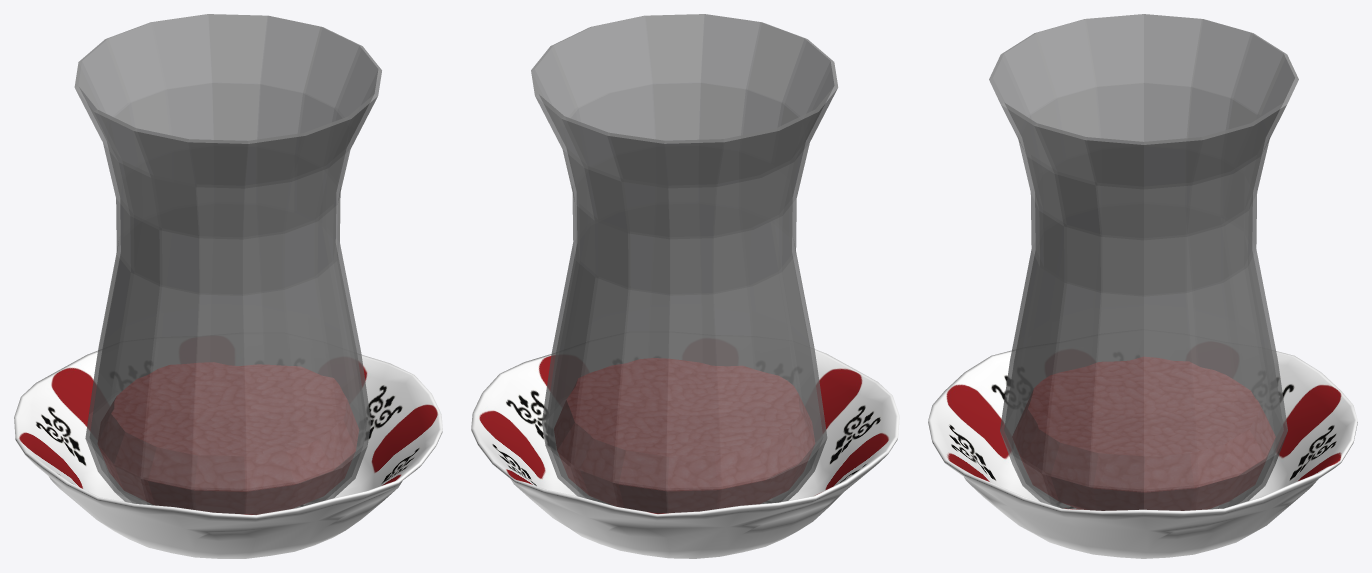
File: Oralets(strawberryGranule).fbx
The picture shows the model from 3 angles, left to right: view 1: azimuth 30°, elevation 25°; view 2: azimuth 150°, elevation 25°; view 3: azimuth 270°, elevation 25°; orthographic projection.
Parts seen in each view (by area): view 1: TeaGlass, StrawberryGranule, TeaGlassCoater; view 2: TeaGlass, StrawberryGranule, TeaGlassCoater; view 3: TeaGlass, StrawberryGranule, TeaGlassCoater.
Part boxes in pixels (x1,y1,x2,y2): TeaGlass: [74, 14, 381, 514]; StrawberryGranule: [98, 362, 358, 514]; TeaGlassCoater: [14, 349, 442, 558]; TeaGlass: [531, 14, 838, 513]; StrawberryGranule: [554, 358, 814, 513]; TeaGlassCoater: [471, 348, 899, 558]; TeaGlass: [989, 14, 1298, 510]; StrawberryGranule: [1012, 357, 1275, 510]; TeaGlassCoater: [928, 350, 1357, 558].
Bounding box in the file's own units: 51.36 × 56.79 × 51.36.
Materials: 3 (2 with a texture image).
